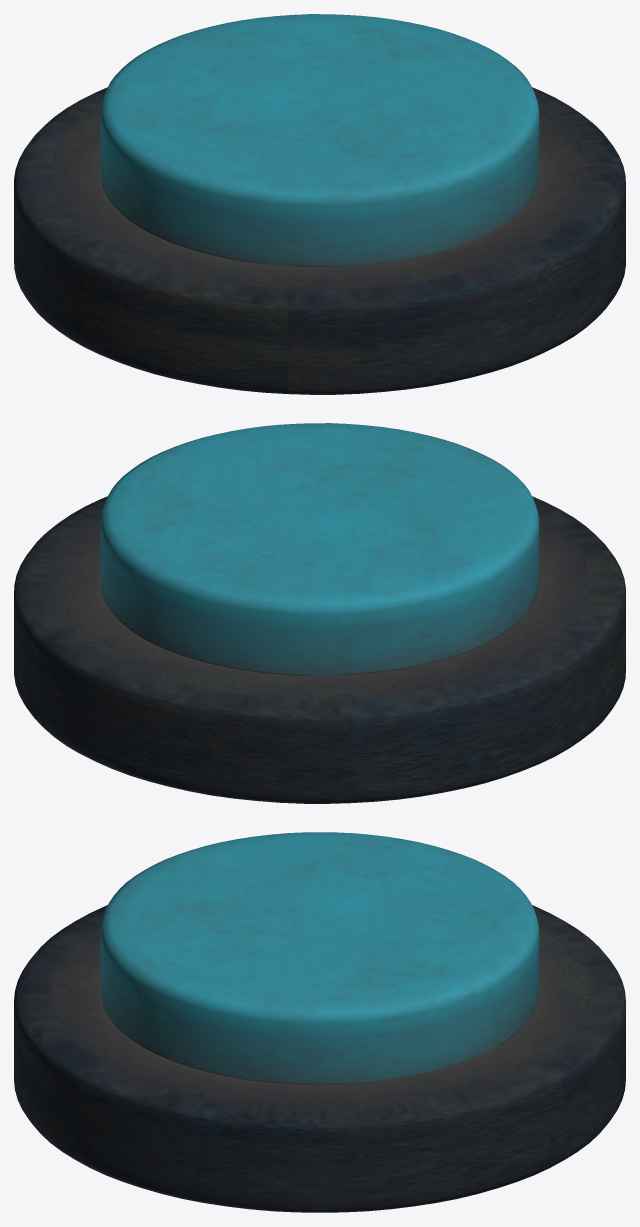
File: button_2.glb
3 views of the same model, one above another, from view 1: azimuth 30°, elevation 25°; view 2: azimuth 150°, elevation 25°; view 3: azimuth 270°, elevation 25° (orthographic).
Visible parts, largest first — view 1: pCylinder4, pCylinder3; view 2: pCylinder4, pCylinder3; view 3: pCylinder4, pCylinder3.
Boxes of the visible parts, x1,y1,x2,y2 form: pCylinder4: (14,87,625,394); pCylinder3: (100,14,539,267); pCylinder4: (14,496,625,803); pCylinder3: (100,423,539,676); pCylinder4: (14,905,625,1212); pCylinder3: (100,832,539,1085).
Size of the model in its own units: 0.9818 by 0.3025 by 0.9818.
Materials: 1 (1 with a texture image).
